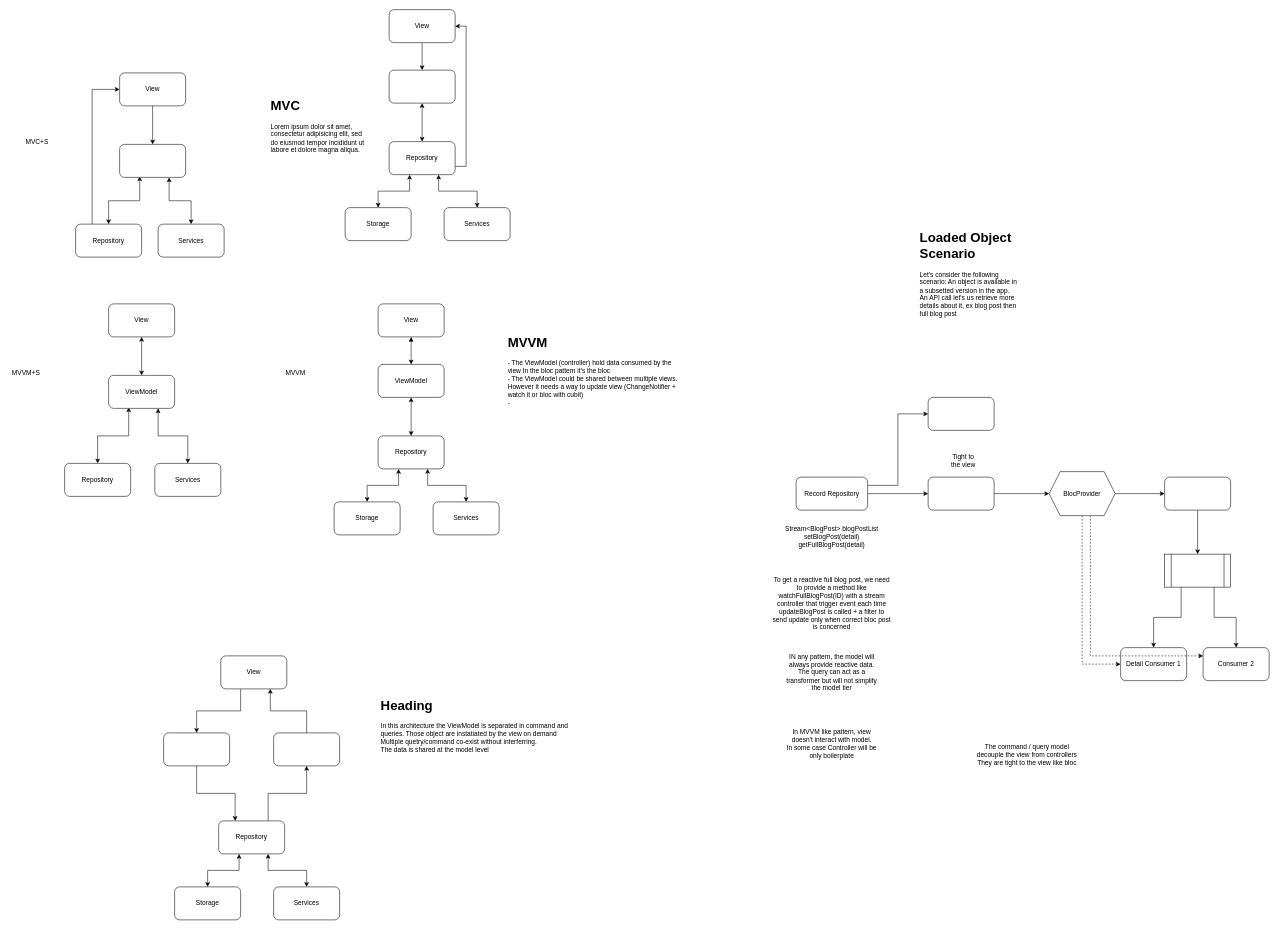
This 1279x930 diagram has some shape labels left out. The shapes that lost their labels are listed below. From the top down, each one's centre as x and y in pixels, then its label:
At (x=422, y=86): "Controller".
At (x=152, y=160): "Controler".
At (x=961, y=413): "Bloc 2".
At (x=961, y=493): "Bloc".
At (x=1197, y=493): "RecordDetails page".
At (x=1197, y=570): "Some widget ...".
At (x=196, y=749): "Command".
At (x=306, y=749): "Querry".
